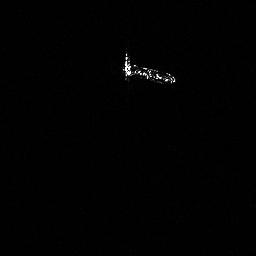ship: (119, 49, 178, 87)
